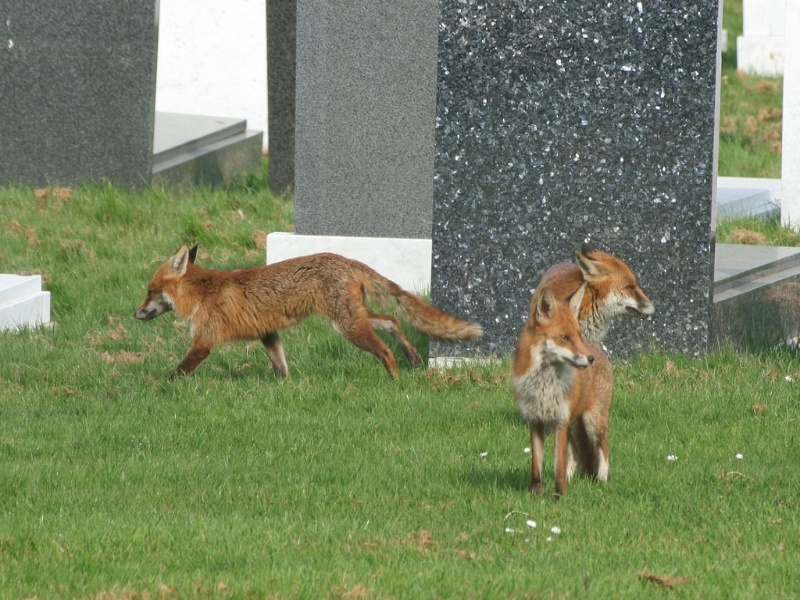fox: (130, 242, 489, 388), (511, 295, 625, 498), (534, 243, 655, 345)
